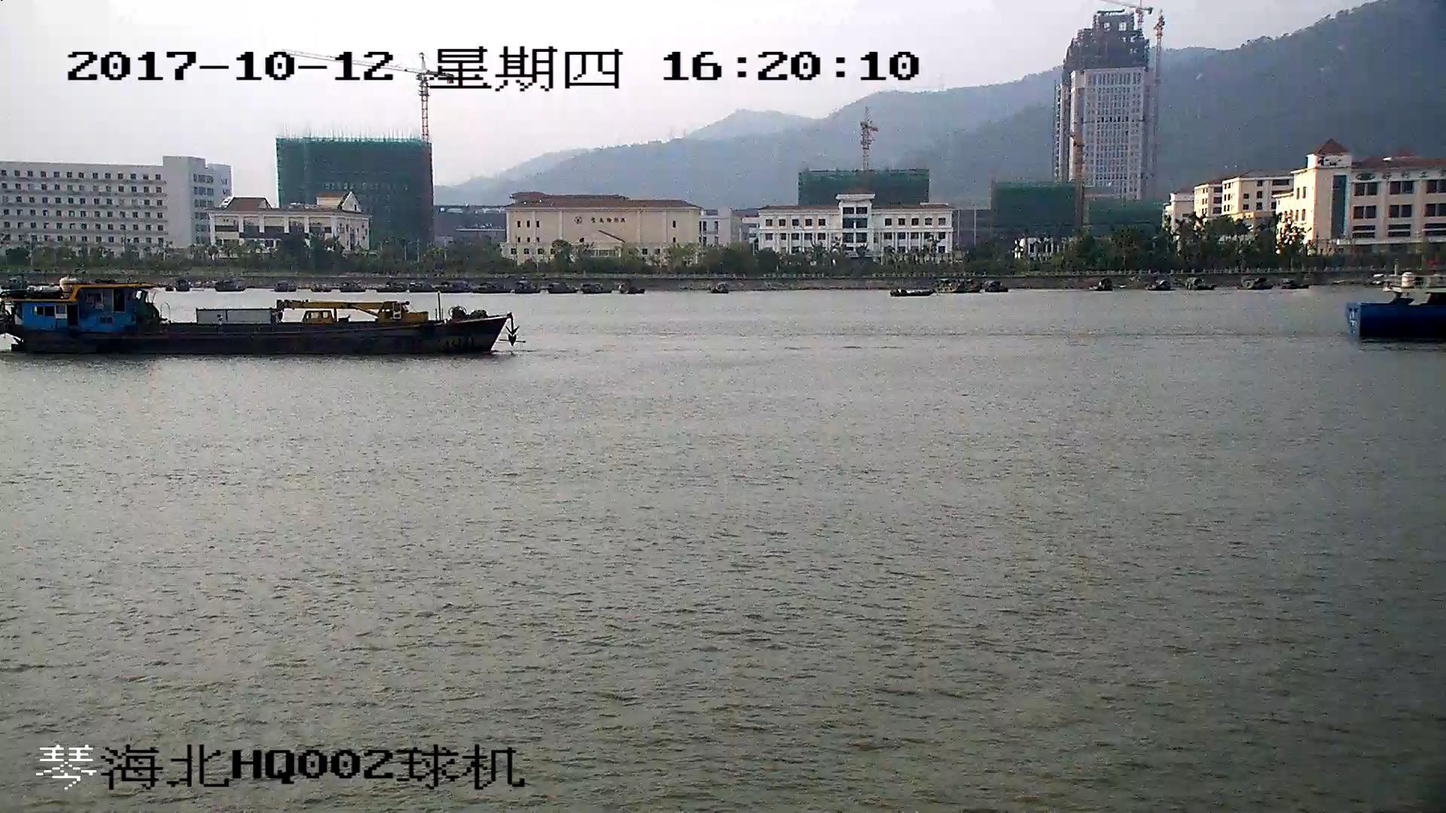fishing boat: (0, 281, 518, 357)
